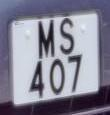0: (48, 56, 68, 100)
4: (27, 57, 47, 103)
7: (65, 53, 86, 97)
M: (34, 17, 58, 64)
S: (57, 16, 79, 60)
